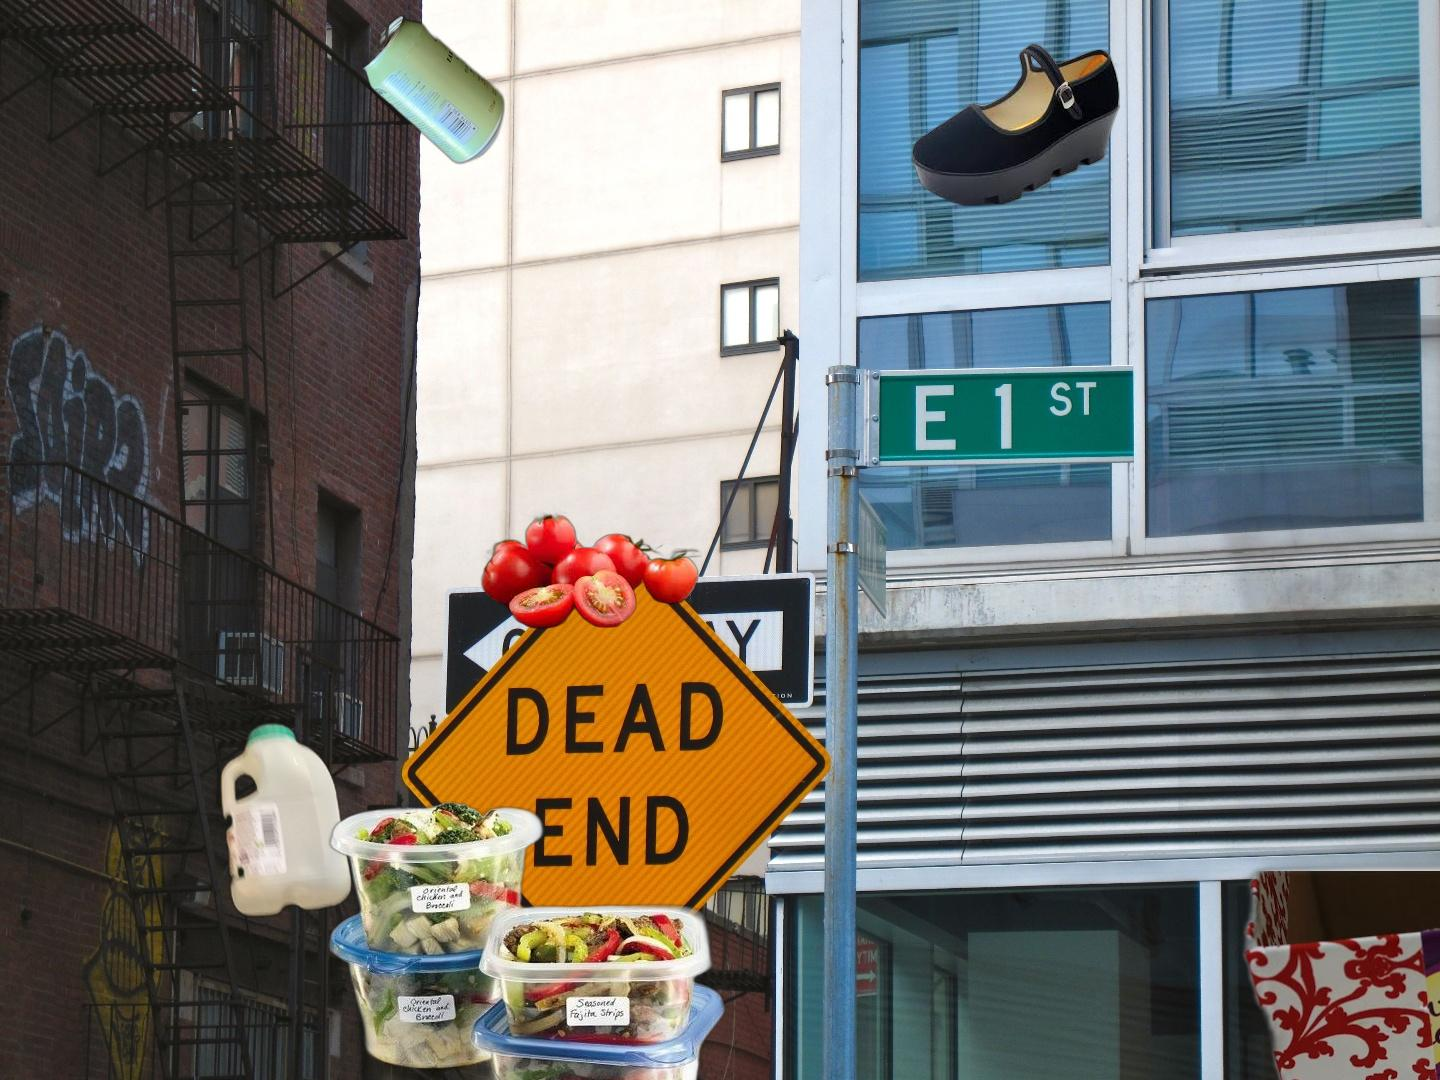biological: (278, 799, 778, 1080), (469, 508, 704, 631)
metal-cans: (357, 9, 509, 170)
plastic-bottles: (215, 716, 356, 923)
shoes: (909, 41, 1123, 209)
trashbox-cardboard: (1178, 315, 1440, 1080)
